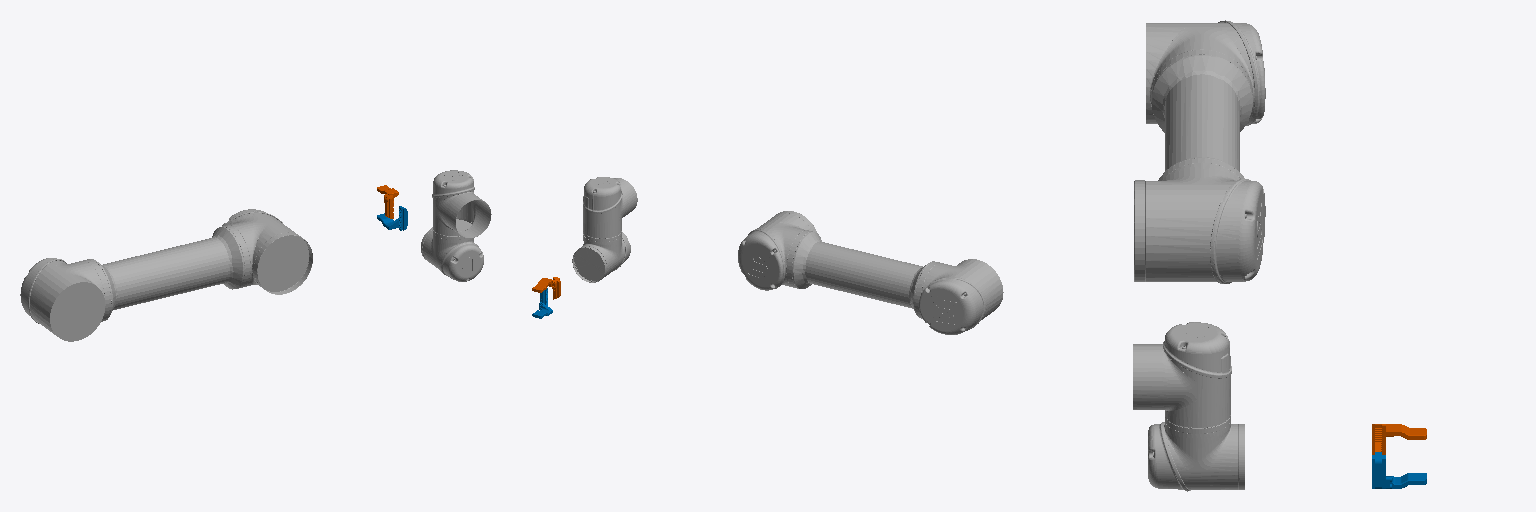
URDF robot description (ur5e):
<?xml version="1.0" ?>
<robot name="ur5e" version="1.0">
  <link name="base_link"/>
  <joint name="base_link-base_link_inertia" type="fixed">
    <origin xyz="0.0 0.0 0.0" rpy="0.0 0.0 3.141592653589793"/>
    <parent link="base_link"/>
    <child link="base_link_inertia"/>
  </joint>
  <link name="base_link_inertia">
    <inertial>
      <origin xyz="0.0 0.0 0.0" rpy="0.0 0.0 0.0"/>
      <mass value="4.0"/>
      <inertia ixx="0.00443333156" ixy="0.0" ixz="0.0" iyy="0.00443333156" iyz="0.0" izz="0.0072"/>
    </inertial>
    <visual>
      <origin xyz="0.0 0.0 0.0" rpy="0.0 0.0 3.141592653589793"/>
      <geometry>
        <mesh filename="package://multiverse_parser/examples/output/ur5e/urdf/ur5e/obj/base.obj"/>
      </geometry>
      <material name="LightGrey">
        <color rgba="0.7 0.7 0.7 1.0"/>
      </material>
    </visual>
    <collision>
      <origin xyz="0.0 0.0 0.0" rpy="0.0 0.0 3.141592653589793"/>
      <geometry>
        <mesh filename="package://multiverse_parser/examples/output/ur5e/urdf/ur5e/stl/base.stl"/>
      </geometry>
    </collision>
  </link>
  <joint name="shoulder_pan_joint" type="revolute">
    <origin xyz="0.0 0.0 0.1625" rpy="0.0 0.0 0.0"/>
    <axis xyz="0.0 0.0 1.0"/>
    <parent link="base_link_inertia"/>
    <child link="shoulder_link"/>
    <limit effort="150.0" lower="0.0" upper="3.141592653589793" velocity="3.141592653589793"/>
    <dynamics damping="0.0" friction="0.0"/>
  </joint>
  <link name="shoulder_link">
    <inertial>
      <origin xyz="0.0 0.0 0.0" rpy="0.0 0.0 0.0"/>
      <mass value="3.7"/>
      <inertia ixx="0.010267495893" ixy="0.0" ixz="0.0" iyy="0.010267495893" iyz="0.0" izz="0.00666"/>
    </inertial>
    <visual>
      <origin xyz="0.0 0.0 0.0" rpy="0.0 0.0 3.141592653589793"/>
      <geometry>
        <mesh filename="package://multiverse_parser/examples/output/ur5e/urdf/ur5e/obj/shoulder.obj"/>
      </geometry>
      <material name="LightGrey">
        <color rgba="0.7 0.7 0.7 1.0"/>
      </material>
    </visual>
    <collision>
      <origin xyz="0.0 0.0 0.0" rpy="0.0 0.0 3.141592653589793"/>
      <geometry>
        <mesh filename="package://multiverse_parser/examples/output/ur5e/urdf/ur5e/stl/shoulder.stl"/>
      </geometry>
    </collision>
  </link>
  <joint name="shoulder_lift_joint" type="revolute">
    <origin xyz="0.0 0.0 0.0" rpy="1.570796327 0.0 0.0"/>
    <axis xyz="0.0 0.0 1.0"/>
    <parent link="shoulder_link"/>
    <child link="upper_arm_link"/>
    <limit effort="150.0" lower="-3.141592653589793" upper="0.0" velocity="3.141592653589793"/>
    <dynamics damping="0.0" friction="0.0"/>
  </joint>
  <link name="upper_arm_link">
    <inertial>
      <origin xyz="-0.2125 0.0 0.138" rpy="0.0 1.5707963267948966 0.0"/>
      <mass value="8.393"/>
      <inertia ixx="0.1338857818623325" ixy="0.0" ixz="0.0" iyy="0.1338857818623325" iyz="0.0" izz="0.0151074"/>
    </inertial>
    <visual>
      <origin xyz="0.0 0.0 0.138" rpy="1.5707963267948966 0.0 -1.5707963267948966"/>
      <geometry>
        <mesh filename="package://multiverse_parser/examples/output/ur5e/urdf/ur5e/obj/upperarm.obj"/>
      </geometry>
      <material name="LightGrey">
        <color rgba="0.7 0.7 0.7 1.0"/>
      </material>
    </visual>
    <collision>
      <origin xyz="0.0 0.0 0.138" rpy="1.5707963267948966 0.0 -1.5707963267948966"/>
      <geometry>
        <mesh filename="package://multiverse_parser/examples/output/ur5e/urdf/ur5e/stl/upperarm.stl"/>
      </geometry>
    </collision>
  </link>
  <joint name="elbow_joint" type="revolute">
    <origin xyz="-0.425 0.0 0.0" rpy="0.0 0.0 0.0"/>
    <axis xyz="0.0 0.0 1.0"/>
    <parent link="upper_arm_link"/>
    <child link="forearm_link"/>
    <limit effort="150.0" lower="0.0" upper="2.792526803190927" velocity="3.141592653589793"/>
    <dynamics damping="0.0" friction="0.0"/>
  </joint>
  <link name="forearm_link">
    <inertial>
      <origin xyz="-0.1961 0.0 0.007" rpy="0.0 1.5707963267948966 0.0"/>
      <mass value="2.275"/>
      <inertia ixx="0.031209355099586295" ixy="0.0" ixz="0.0" iyy="0.031209355099586295" iyz="0.0" izz="0.004095"/>
    </inertial>
    <visual>
      <origin xyz="0.0 0.0 0.007" rpy="1.5707963267948966 0.0 -1.5707963267948966"/>
      <geometry>
        <mesh filename="package://multiverse_parser/examples/output/ur5e/urdf/ur5e/obj/forearm.obj"/>
      </geometry>
      <material name="LightGrey">
        <color rgba="0.7 0.7 0.7 1.0"/>
      </material>
    </visual>
    <collision>
      <origin xyz="0.0 0.0 0.007" rpy="1.5707963267948966 0.0 -1.5707963267948966"/>
      <geometry>
        <mesh filename="package://multiverse_parser/examples/output/ur5e/urdf/ur5e/stl/forearm.stl"/>
      </geometry>
    </collision>
  </link>
  <joint name="wrist_1_joint" type="revolute">
    <origin xyz="-0.3922 0.0 0.1333" rpy="0.0 0.0 0.0"/>
    <axis xyz="0.0 0.0 1.0"/>
    <parent link="forearm_link"/>
    <child link="wrist_1_link"/>
    <limit effort="28.0" lower="-3.141592653589793" upper="1.3962634015954636" velocity="3.141592653589793"/>
    <dynamics damping="0.0" friction="0.0"/>
  </joint>
  <link name="wrist_1_link">
    <inertial>
      <origin xyz="0.0 0.0 0.0" rpy="0.0 0.0 0.0"/>
      <mass value="1.219"/>
      <inertia ixx="0.0025598989760400002" ixy="0.0" ixz="0.0" iyy="0.0025598989760400002" iyz="0.0" izz="0.0021942"/>
    </inertial>
    <visual>
      <origin xyz="0.0 0.0 -0.127" rpy="1.5707963267948966 0.0 0.0"/>
      <geometry>
        <mesh filename="package://multiverse_parser/examples/output/ur5e/urdf/ur5e/obj/wrist1.obj"/>
      </geometry>
      <material name="LightGrey">
        <color rgba="0.7 0.7 0.7 1.0"/>
      </material>
    </visual>
    <collision>
      <origin xyz="0.0 0.0 -0.127" rpy="1.5707963267948966 0.0 0.0"/>
      <geometry>
        <mesh filename="package://multiverse_parser/examples/output/ur5e/urdf/ur5e/stl/wrist1.stl"/>
      </geometry>
    </collision>
  </link>
  <joint name="wrist_2_joint" type="revolute">
    <origin xyz="0.0 -0.0997 -2.044881182297852e-11" rpy="1.570796327 0.0 0.0"/>
    <axis xyz="0.0 0.0 1.0"/>
    <parent link="wrist_1_link"/>
    <child link="wrist_2_link"/>
    <limit effort="28.0" lower="-0.17453292519943295" upper="6.283185307179586" velocity="3.141592653589793"/>
    <dynamics damping="0.0" friction="0.0"/>
  </joint>
  <link name="wrist_2_link">
    <inertial>
      <origin xyz="0.0 0.0 0.0" rpy="0.0 0.0 0.0"/>
      <mass value="1.219"/>
      <inertia ixx="0.0025598989760400002" ixy="0.0" ixz="0.0" iyy="0.0025598989760400002" iyz="0.0" izz="0.0021942"/>
    </inertial>
    <visual>
      <origin xyz="0.0 0.0 -0.0997" rpy="0.0 0.0 0.0"/>
      <geometry>
        <mesh filename="package://multiverse_parser/examples/output/ur5e/urdf/ur5e/obj/wrist2.obj"/>
      </geometry>
      <material name="LightGrey">
        <color rgba="0.7 0.7 0.7 1.0"/>
      </material>
    </visual>
    <collision>
      <origin xyz="0.0 0.0 -0.0997" rpy="0.0 0.0 0.0"/>
      <geometry>
        <mesh filename="package://multiverse_parser/examples/output/ur5e/urdf/ur5e/stl/wrist2.stl"/>
      </geometry>
    </collision>
  </link>
  <joint name="wrist_3_joint" type="revolute">
    <origin xyz="0.0 0.0996 -2.042830148012698e-11" rpy="1.570796326589793 3.141592653589793 3.141592653589793"/>
    <axis xyz="0.0 0.0 1.0"/>
    <parent link="wrist_2_link"/>
    <child link="wrist_3_link"/>
    <limit effort="28.0" lower="-1.5707963267948966" upper="1.5707963267948966" velocity="3.141592653589793"/>
    <dynamics damping="0.0" friction="0.0"/>
  </joint>
  <link name="wrist_3_link">
    <inertial>
      <origin xyz="0.0 0.0 -0.0229" rpy="0.0 0.0 0.0"/>
      <mass value="0.1879"/>
      <inertia ixx="9.890410052167731e-05" ixy="0.0" ixz="0.0" iyy="9.890410052167731e-05" iyz="0.0" izz="0.0001321171875"/>
    </inertial>
    <visual>
      <origin xyz="0.0 0.0 -0.0989" rpy="1.5707963267948966 0.0 0.0"/>
      <geometry>
        <mesh filename="package://multiverse_parser/examples/output/ur5e/urdf/ur5e/obj/wrist3.obj"/>
      </geometry>
      <material name="LightGrey">
        <color rgba="0.7 0.7 0.7 1.0"/>
      </material>
    </visual>
    <collision>
      <origin xyz="0.0 0.0 -0.0989" rpy="1.5707963267948966 0.0 0.0"/>
      <geometry>
        <mesh filename="package://multiverse_parser/examples/output/ur5e/urdf/ur5e/stl/wrist3.stl"/>
      </geometry>
    </collision>
  </link>
  <joint name="base_link-base_fixed_joint" type="fixed">
    <origin xyz="0.0 0.0 0.0" rpy="0.0 0.0 3.141592653589793"/>
    <parent link="base_link"/>
    <child link="base"/>
  </joint>
  <link name="base"/>
  <joint name="wrist_3-flange" type="fixed">
    <origin xyz="0.0 0.0 0.0" rpy="0.0 -1.5707963267948966 -1.5707963267948966"/>
    <parent link="wrist_3_link"/>
    <child link="flange"/>
  </joint>
  <link name="flange"/>
  <joint name="flange-tool0" type="fixed">
    <origin xyz="0.0 0.0 0.0" rpy="1.5707963267948966 0.0 1.5707963267948966"/>
    <parent link="flange"/>
    <child link="tool0"/>
  </joint>
  <link name="tool0"/>
  <joint name="gripper_hand_e_base_joint" type="fixed">
    <origin xyz="0.0 0.0 0.0" rpy="1.5707963267948966 0.0 0.0"/>
    <parent link="tool0"/>
    <child link="gripper_hand_e_base"/>
  </joint>
  <link name="gripper_hand_e_base">
    <visual>
      <geometry>
        <mesh filename="package://multiverse_parser/examples/output/ur5e/urdf/ur5e/obj/robotiq_hand_e_base.obj"/>
      </geometry>
    </visual>
    <collision>
      <origin xyz="0.0 0.01655 0.0" rpy="1.5707963267948966 0.0 0.0"/>
      <geometry>
        <cylinder radius="0.0375" length="0.0331"/>
      </geometry>
    </collision>
    <collision>
      <origin xyz="0.0 0.101861 0.0" rpy="1.5707963267948966 0.0 0.0"/>
      <geometry>
        <cylinder radius="0.0375" length="0.021878"/>
      </geometry>
    </collision>
    <collision>
      <origin xyz="0.0 0.062011 0.0" rpy="1.5707963267948966 0.0 0.0"/>
      <geometry>
        <cylinder radius="0.025" length="0.057822"/>
      </geometry>
    </collision>
  </link>
  <joint name="gripper_hand_e_finger_1_joint" type="prismatic">
    <axis xyz="0.0 0.0 -1.0"/>
    <parent link="gripper_hand_e_base"/>
    <child link="gripper_hand_e_finger_1"/>
    <limit effort="1000.0" lower="0.0" upper="0.025" velocity="1000.0"/>
  </joint>
  <link name="gripper_hand_e_finger_1">
    <visual>
      <geometry>
        <mesh filename="package://multiverse_parser/examples/output/ur5e/urdf/ur5e/obj/robotiq_hand_e_finger_1.obj"/>
      </geometry>
    </visual>
    <collision>
      <origin xyz="0.0 0.13705 0.027498" rpy="0.0 0.0 0.0"/>
      <geometry>
        <box size="0.02 0.0455 0.006"/>
      </geometry>
    </collision>
  </link>
  <joint name="gripper_hand_e_finger_2_joint" type="prismatic">
    <axis xyz="0.0 0.0 1.0"/>
    <parent link="gripper_hand_e_base"/>
    <child link="gripper_hand_e_finger_2"/>
    <limit effort="1000.0" lower="0.0" upper="0.025" velocity="1000.0"/>
    <mimic joint="gripper_hand_e_finger_1_joint"/>
  </joint>
  <link name="gripper_hand_e_finger_2">
    <visual>
      <geometry>
        <mesh filename="package://multiverse_parser/examples/output/ur5e/urdf/ur5e/obj/robotiq_hand_e_finger_2.obj"/>
      </geometry>
    </visual>
    <collision>
      <origin xyz="0.0 0.13705 -0.028502" rpy="0.0 0.0 0.0"/>
      <geometry>
        <box size="0.02 0.0455 0.006"/>
      </geometry>
    </collision>
  </link>
</robot>

--- Render facts (derived) ---
The picture shows the robot from 3 angles, left to right: view 1: azimuth 30°, elevation 25°; view 2: azimuth 150°, elevation 25°; view 3: azimuth 270°, elevation 25°; orthographic projection.
Model ur5e with 14 links and 13 joints (6 revolute, 2 prismatic, 5 fixed), rooted at base_link, posed all joints at 0.
Links seen in each view (by area): view 1: upper_arm_link, wrist_1_link, wrist_2_link; view 2: upper_arm_link, wrist_1_link, wrist_2_link; view 3: upper_arm_link, wrist_1_link, wrist_2_link, gripper_hand_e_finger_1, gripper_hand_e_finger_2.
Link boxes in pixels (box(x1,y1,x2,y2)): upper_arm_link: box(20, 209, 312, 341); wrist_1_link: box(432, 170, 491, 239); wrist_2_link: box(421, 227, 483, 281); upper_arm_link: box(738, 211, 1003, 334); wrist_1_link: box(583, 177, 637, 241); wrist_2_link: box(572, 232, 630, 282); upper_arm_link: box(1134, 20, 1265, 283); wrist_1_link: box(1133, 322, 1231, 433); wrist_2_link: box(1148, 421, 1244, 491); gripper_hand_e_finger_1: box(1372, 452, 1426, 488); gripper_hand_e_finger_2: box(1372, 424, 1426, 454).
Bounding box of the posed robot: 0.9171 × 0.333 × 0.1989 m (x, y, z).
Meshes: 10 distinct files referenced, 5 mesh visuals loaded (5 OBJ); not drawn: 5 (reference not matched to a file when rendering).
